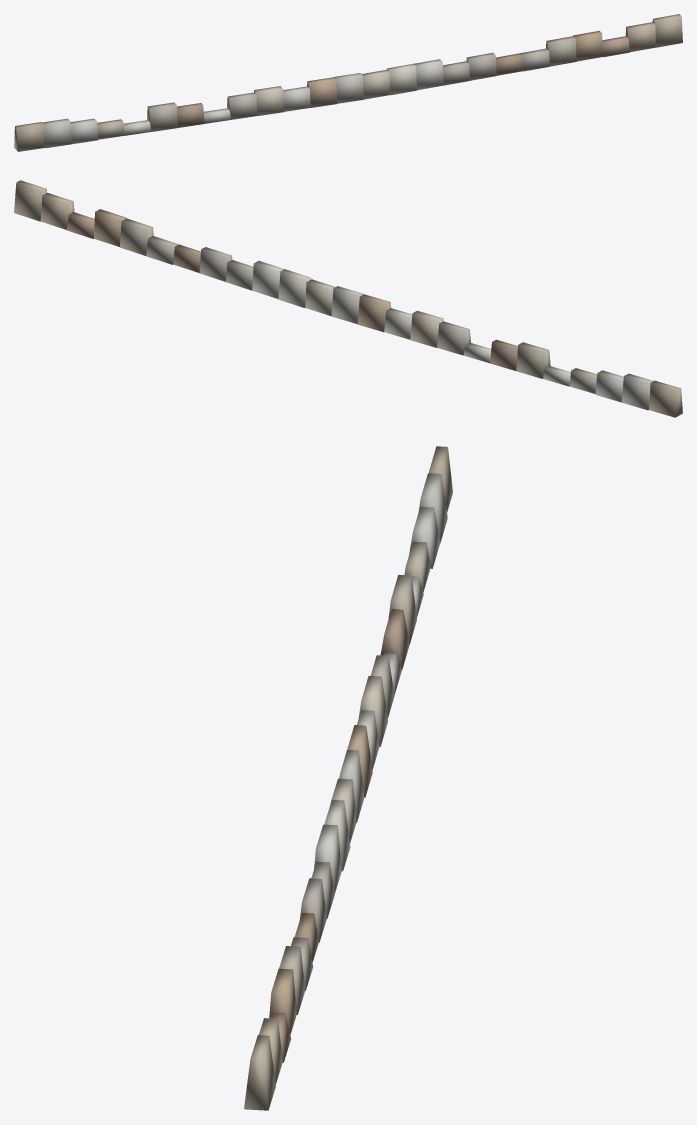
The model's file is farm_-9_1_collision.glb.
3 renders of one model, top to bottom at view 1: azimuth 30°, elevation 25°; view 2: azimuth 150°, elevation 25°; view 3: azimuth 270°, elevation 25°, orthographic. The views are drawn at different scales.
Visible parts, largest first — view 1: geometry_0; view 2: geometry_0; view 3: geometry_0.
Part boxes in pixels (<box>): geometry_0: <box>14,14,682,151</box>; geometry_0: <box>14,180,682,417</box>; geometry_0: <box>244,446,452,1110</box>.
Bounding box in the file's own units: 39.56 × 1.9 × 5.79.
